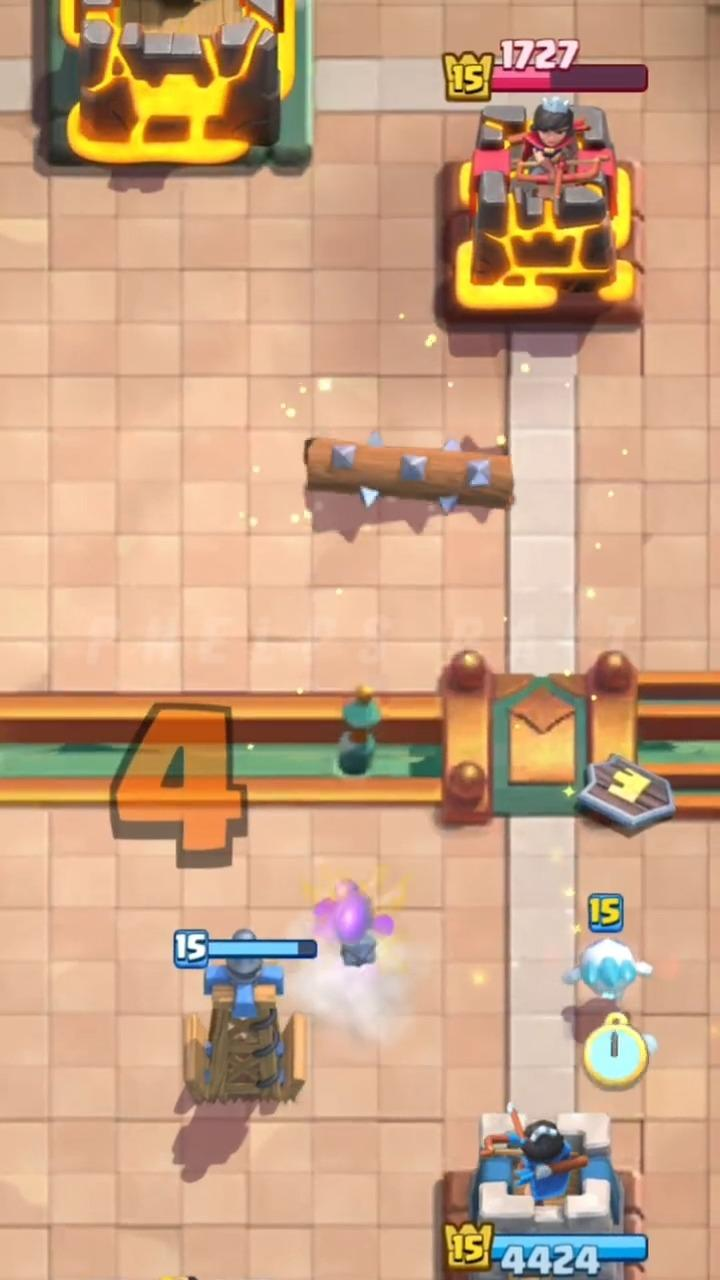ice spirit: (565, 935, 652, 1003)
log: (305, 433, 513, 509)
tesla: (184, 930, 306, 1105)
